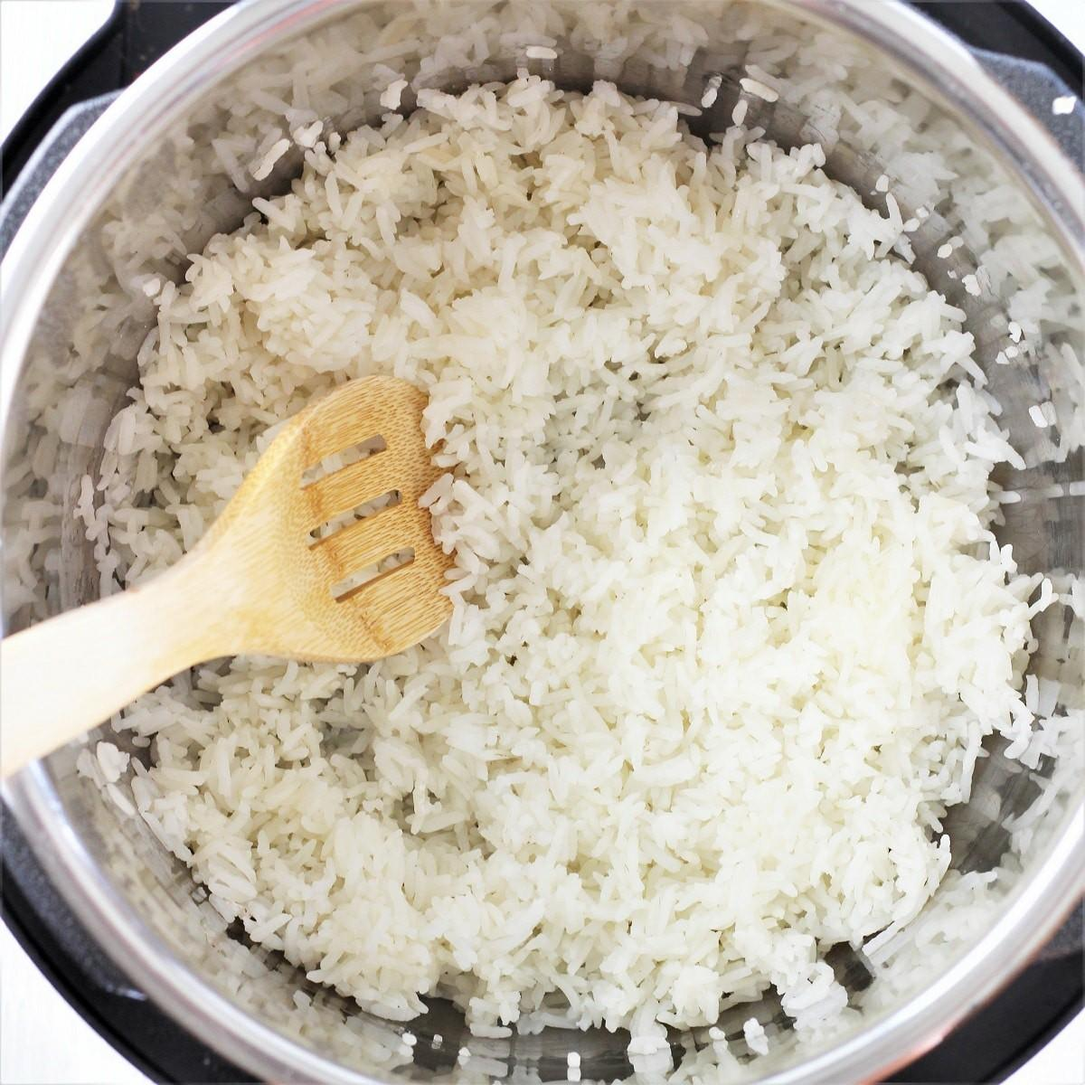WhiteRice: (76, 68, 1053, 1037)
